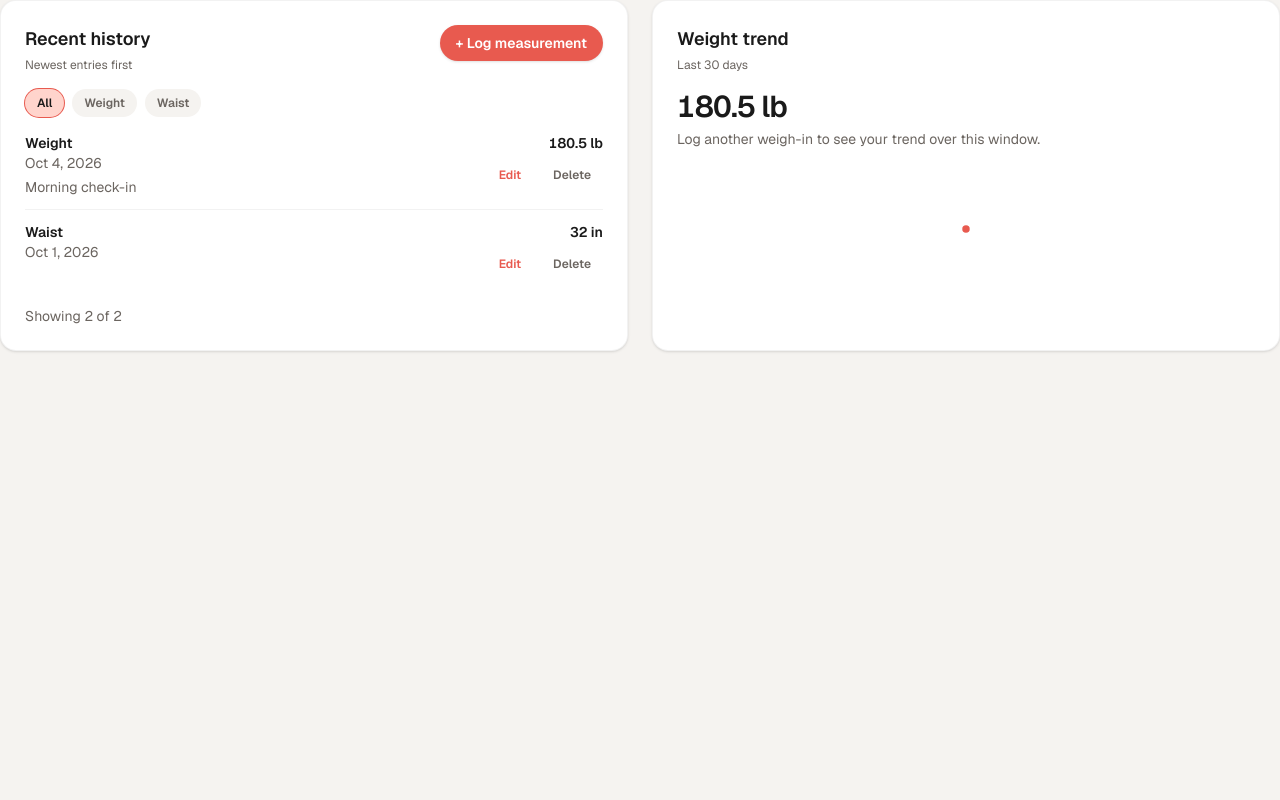
Scenario: measurement history row actions › confirms delete, refreshes history, and moves focus to the heading
This screenshot has width=1280, height=800.
Click the button with aria-label "Delete Weight on Oct 4, 2026" at coordinates (572, 175), box x1=541 y1=153 x2=603 y2=197
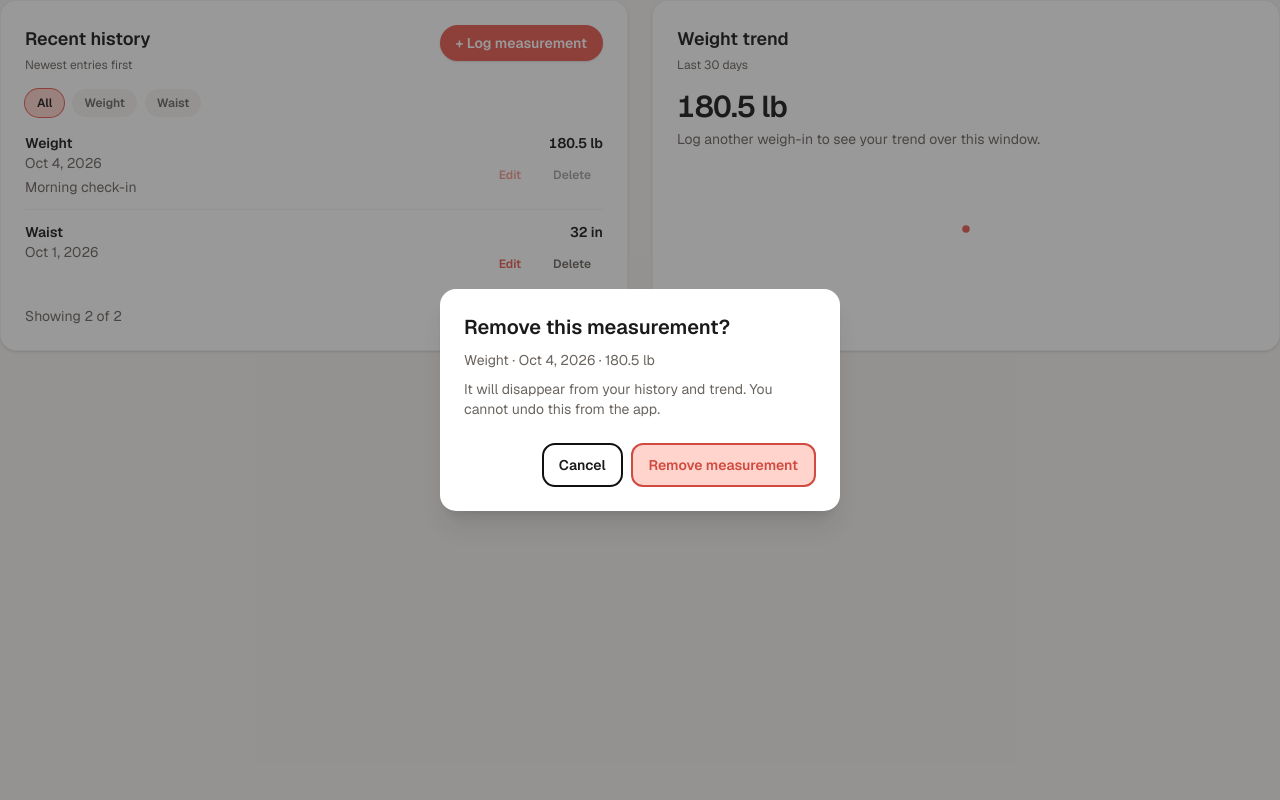
Click the button "Remove measurement" at coordinates (723, 465), box x1=631 y1=443 x2=816 y2=487
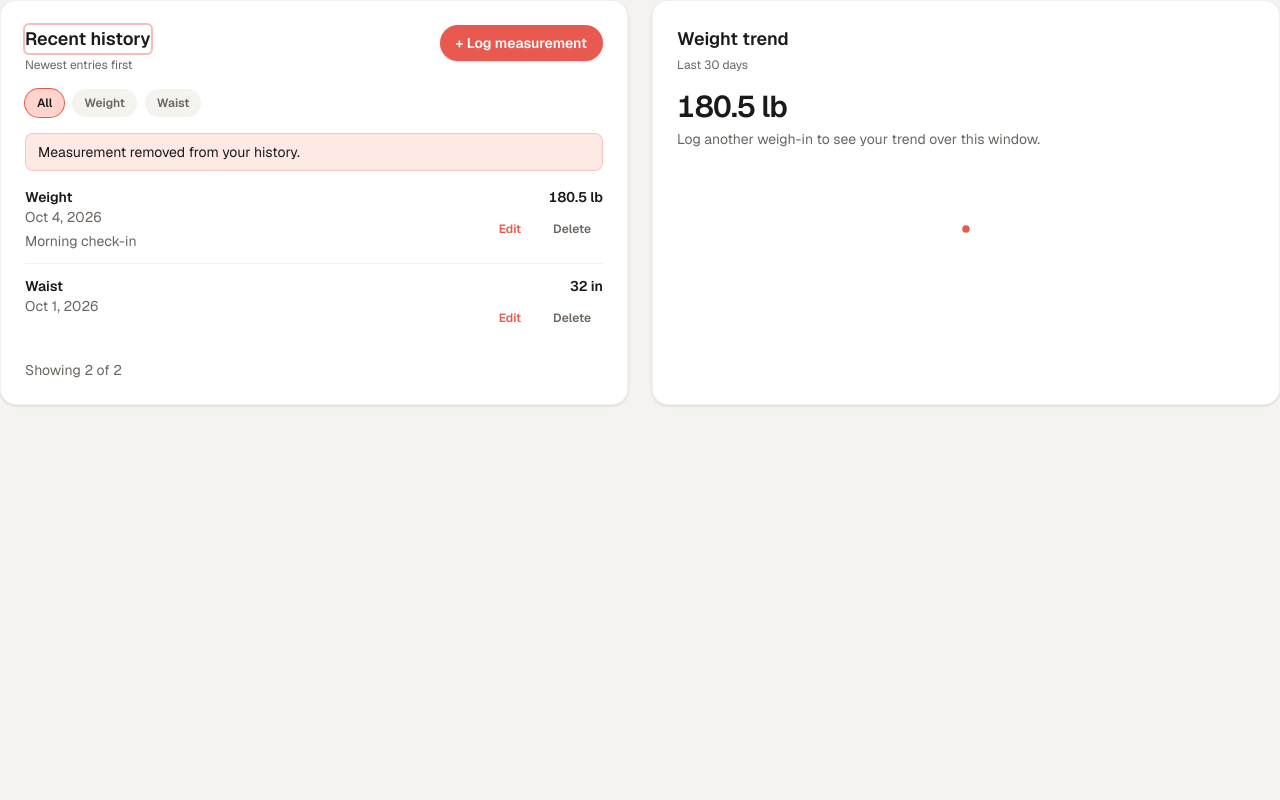
Result: the message reads "Measurement removed from your history." at x1=38 y1=143 x2=300 y2=161
Result: the dialog is gone
